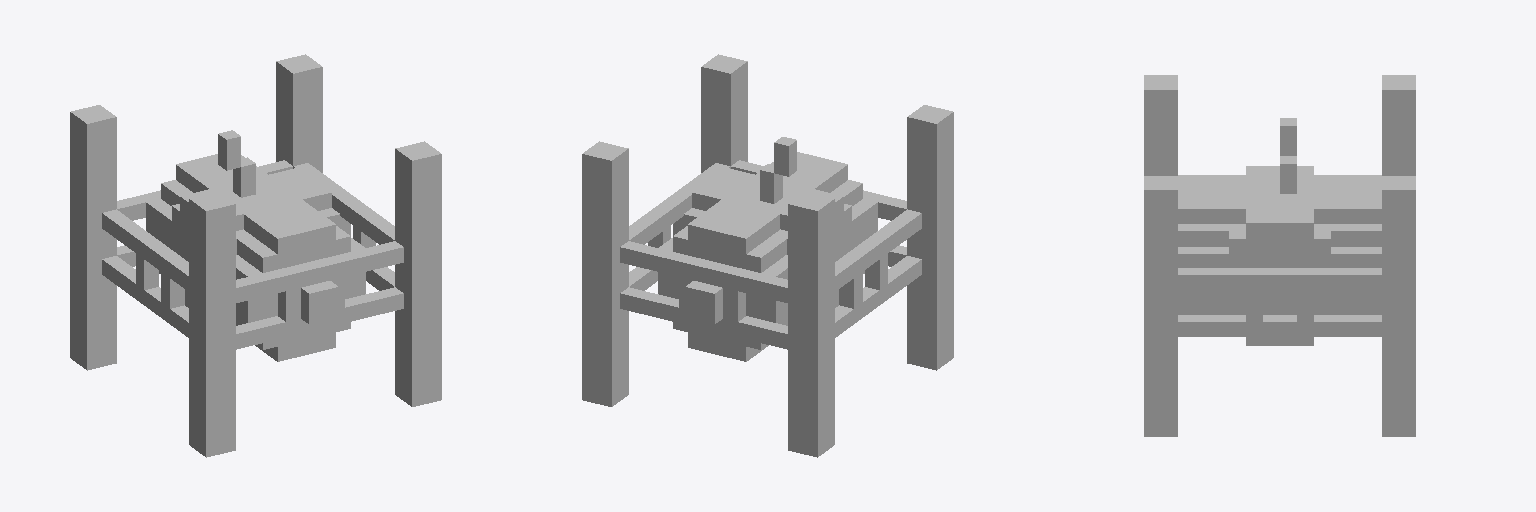
The model's file is power_generators_shaft_switch.obj.
3 views of the same model, side by side, from view 1: azimuth 30°, elevation 25°; view 2: azimuth 150°, elevation 25°; view 3: azimuth 270°, elevation 25° (orthographic).
Parts seen in each view (by area): view 1: node_0_0_0.028; view 2: node_0_0_0.028; view 3: node_0_0_0.028.
Part boxes in pixels (x1,y1,x2,y2): node_0_0_0.028: (70,54,441,457); node_0_0_0.028: (582,54,953,457); node_0_0_0.028: (1144,75,1415,436).
Bounding box in the file's own units: 1 × 1 × 1.